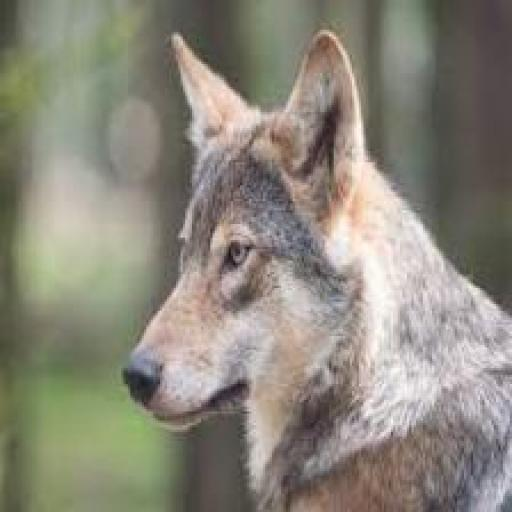wolf: (112, 11, 510, 512)
